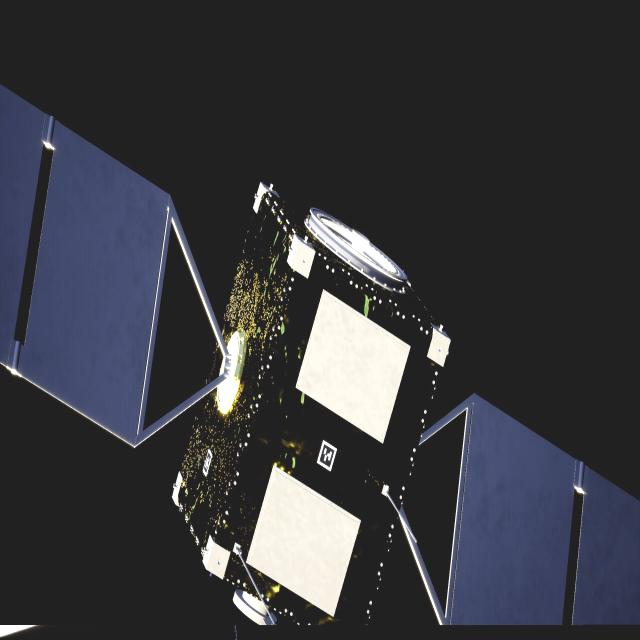medium_debris: (0, 85, 640, 633)
